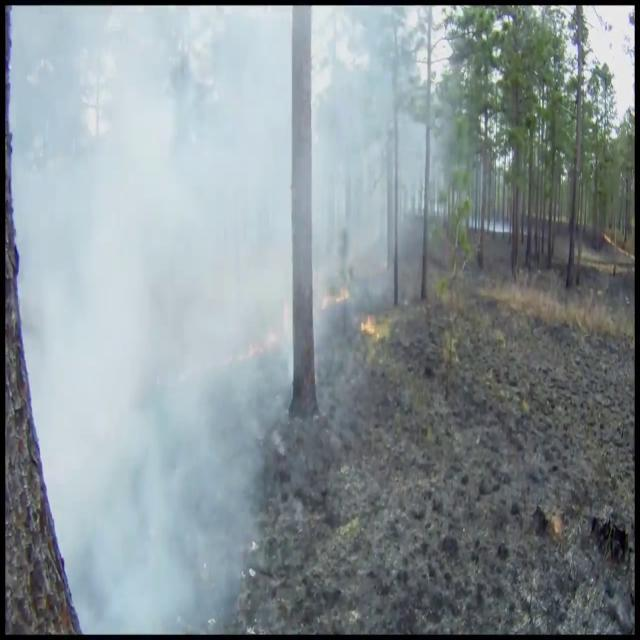Fire: (356, 296, 391, 350)
Smoke: (18, 6, 400, 632)
